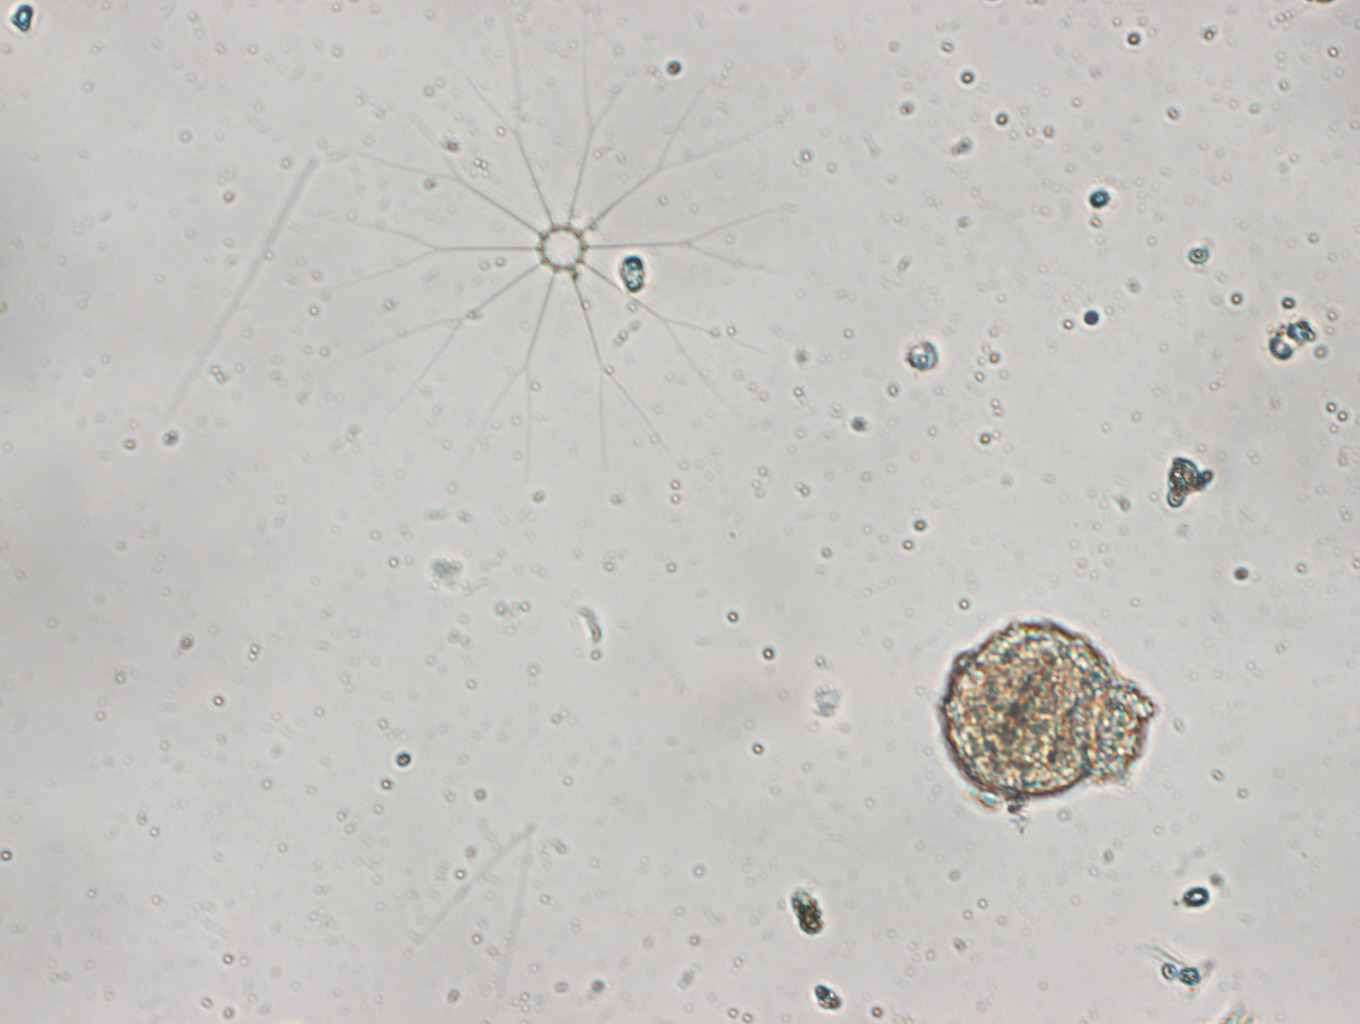bacteriastrum: (314, 17, 787, 487)
